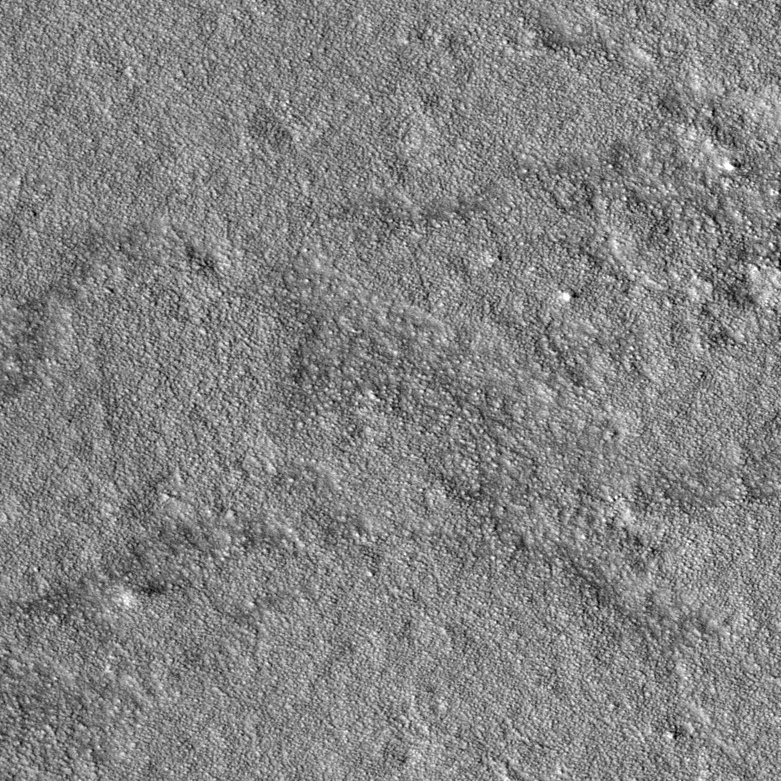dust_devil: (120, 581, 167, 608)
